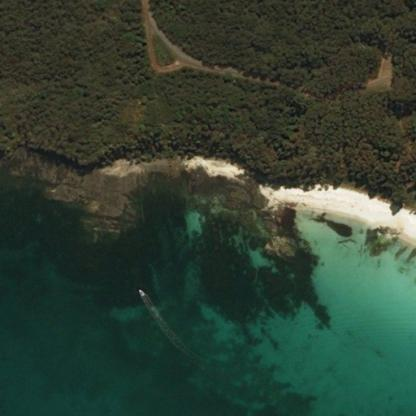ship: (137, 287, 144, 295)
